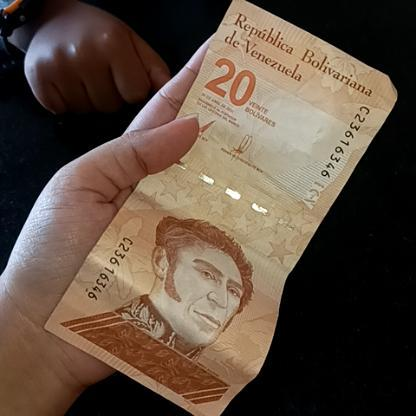twenty-front-vef: (30, 29, 402, 416)
